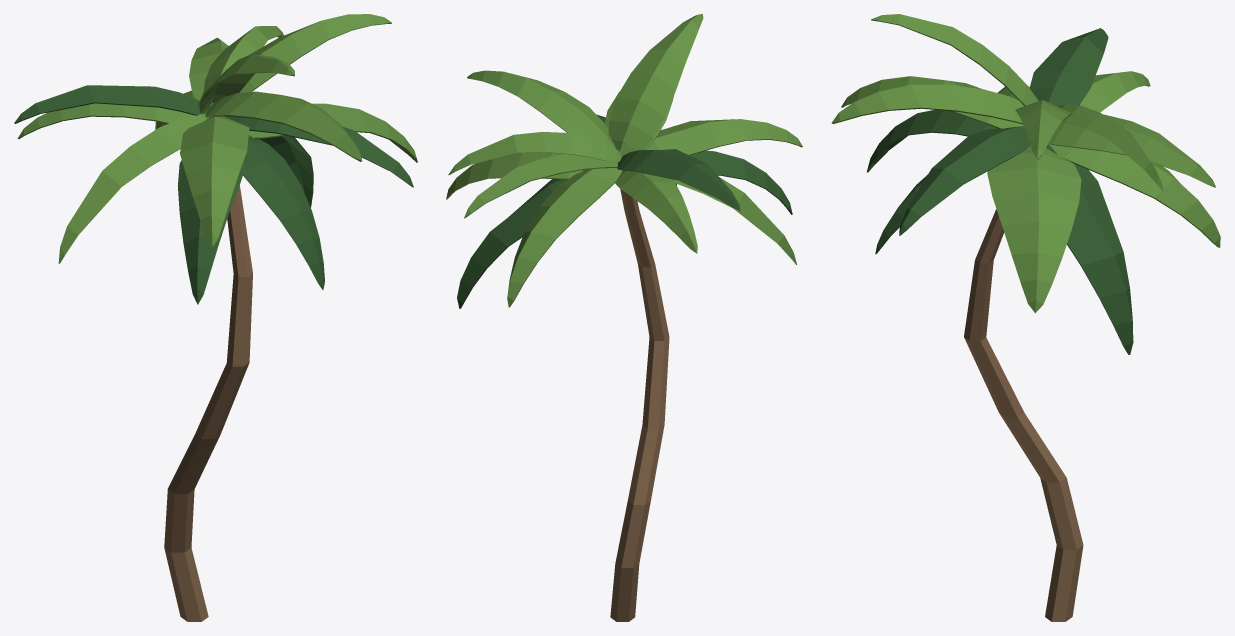
The model's file is palm_palmtree_1.glb.
The picture shows the model from 3 angles, left to right: view 1: azimuth 30°, elevation 25°; view 2: azimuth 150°, elevation 25°; view 3: azimuth 270°, elevation 25°; orthographic projection. The views are drawn at different scales.
Visible parts, largest first — view 1: PalmTree_1_Cylinder.041; view 2: PalmTree_1_Cylinder.041; view 3: PalmTree_1_Cylinder.041.
Boxes of the visible parts, x1,y1,x2,y2 form: PalmTree_1_Cylinder.041: (14,14,417,621); PalmTree_1_Cylinder.041: (446,14,802,621); PalmTree_1_Cylinder.041: (831,14,1220,621).
Bounding box in the file's own units: 5.79 × 9 × 5.25.
